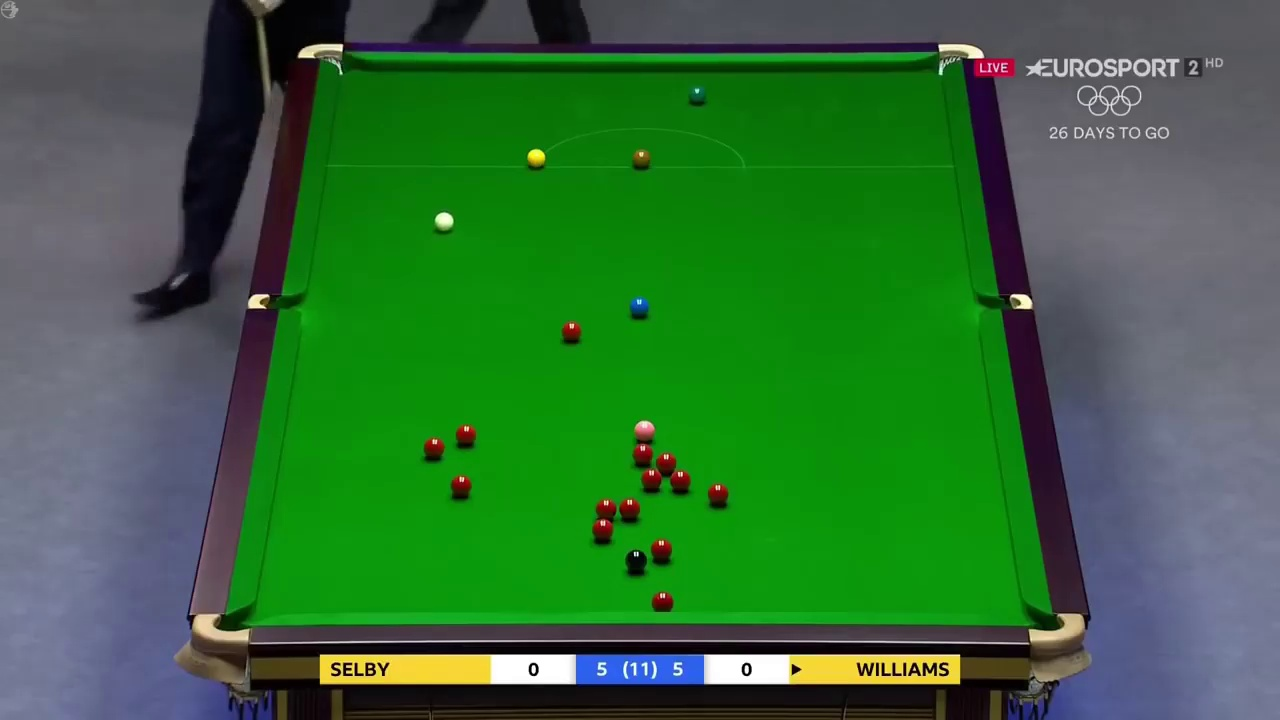ball: (590, 516, 615, 543), (623, 548, 647, 571), (522, 148, 548, 169), (560, 319, 583, 342), (669, 469, 692, 491), (454, 425, 478, 446), (650, 538, 673, 559), (708, 483, 729, 506), (642, 467, 664, 488), (432, 211, 453, 232), (449, 475, 470, 496), (422, 437, 444, 457), (634, 421, 656, 441), (619, 498, 639, 519), (630, 297, 649, 317), (632, 148, 650, 168), (688, 89, 705, 107)
